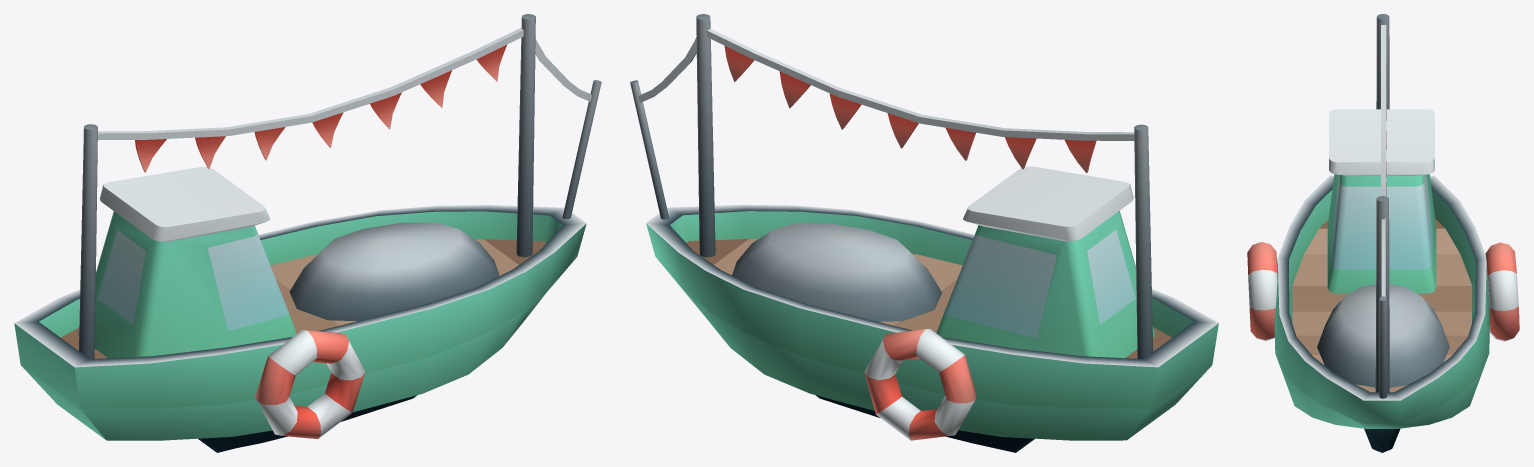
The model's file is Asset_FishingShip.glb.
The picture shows the model from 3 angles, left to right: view 1: azimuth 30°, elevation 25°; view 2: azimuth 150°, elevation 25°; view 3: azimuth 270°, elevation 25°; orthographic projection. The views are drawn at different scales.
Visible parts, largest first — view 1: Mesh.062; view 2: Mesh.062; view 3: Mesh.062.
Part boxes in pixels (left/top/right/bottom): Mesh.062: left=14, top=14, right=601, bottom=452; Mesh.062: left=630, top=14, right=1218, bottom=452; Mesh.062: left=1247, top=14, right=1519, bottom=452.
Size of what is drawn, in the model's own units: 5.95 by 3.68 by 2.9.
1 material, 1 textured.
